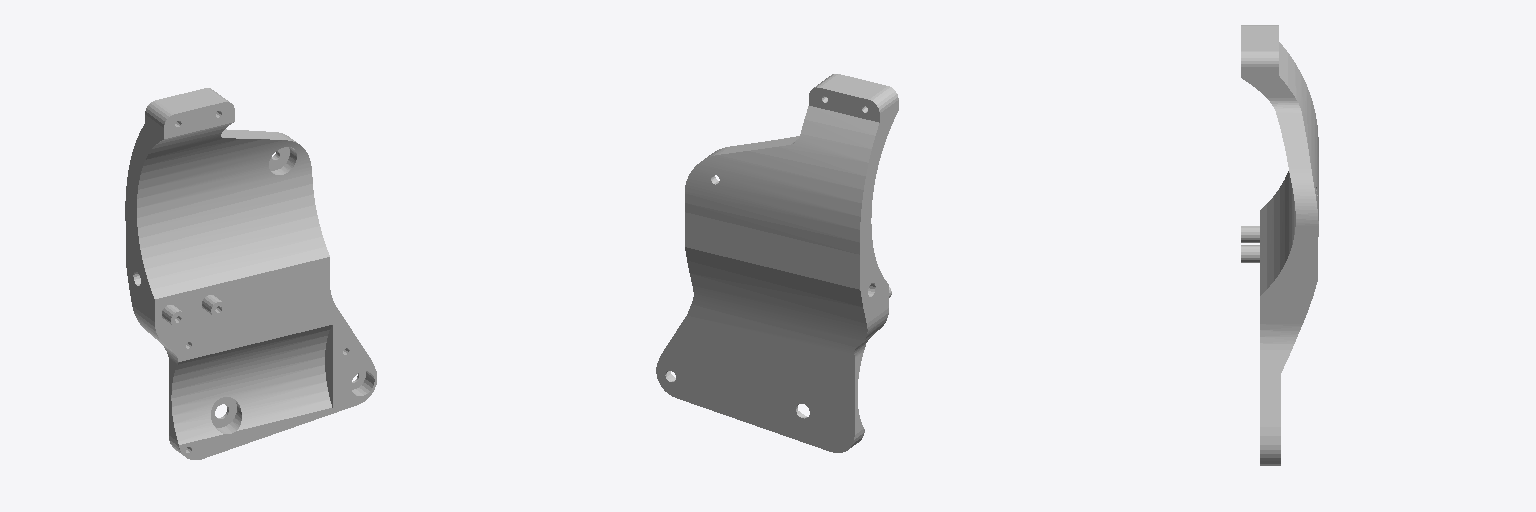
Rendered from Кронштейн навесных агрегатов.obj.
3 renders of one model, left to right at view 1: azimuth 30°, elevation 25°; view 2: azimuth 150°, elevation 25°; view 3: azimuth 270°, elevation 25°, orthographic.
Parts seen in each view (by area): view 1: Кронштейн_навесных_агрегатов; view 2: Кронштейн_навесных_агрегатов; view 3: Кронштейн_навесных_агрегатов.
Boxes of the visible parts, x1,y1,x2,y2 form: Кронштейн_навесных_агрегатов: [125, 88, 376, 459]; Кронштейн_навесных_агрегатов: [656, 74, 898, 452]; Кронштейн_навесных_агрегатов: [1241, 25, 1318, 465].
Bounding box in the file's own units: 207 × 320 × 62.22.